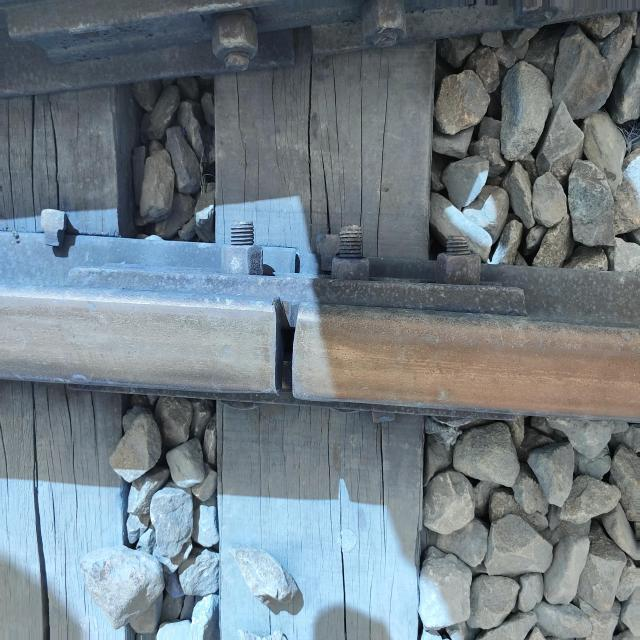Defective Joint: (67, 243, 544, 449)
